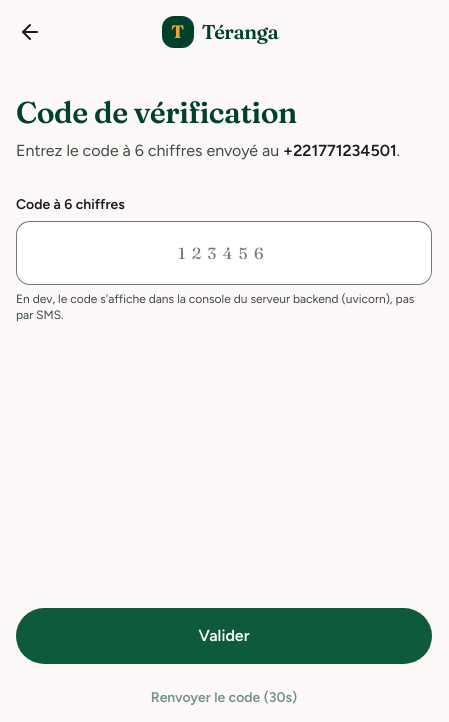
Test: OtpScreen › shows the backend's error message as-is on an invalid code
Type "000000" into the field with placeholder "123456" at (224, 252), box [16,220,432,284]
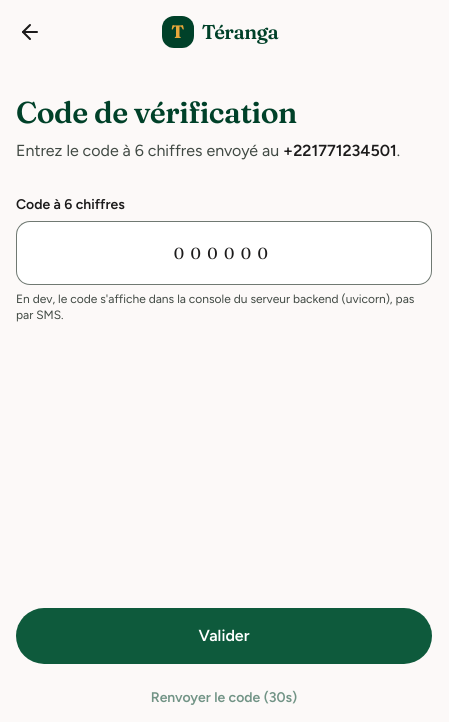
Click the button "Valider" at (224, 636), box [16,608,432,664]
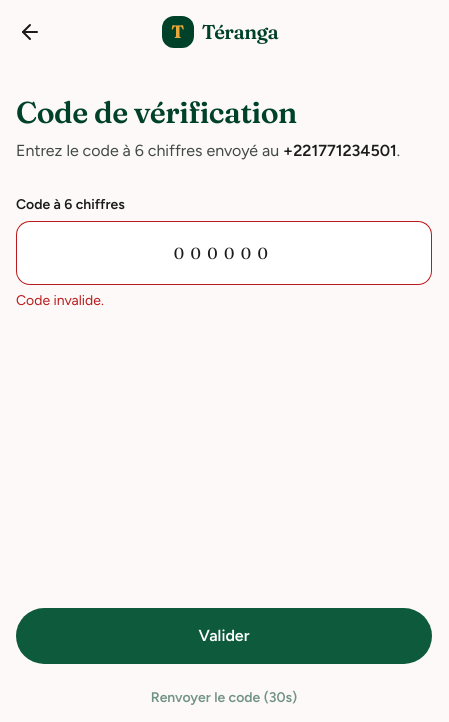
Expected: the text "Code invalide." is shown, [16,292,104,308]
